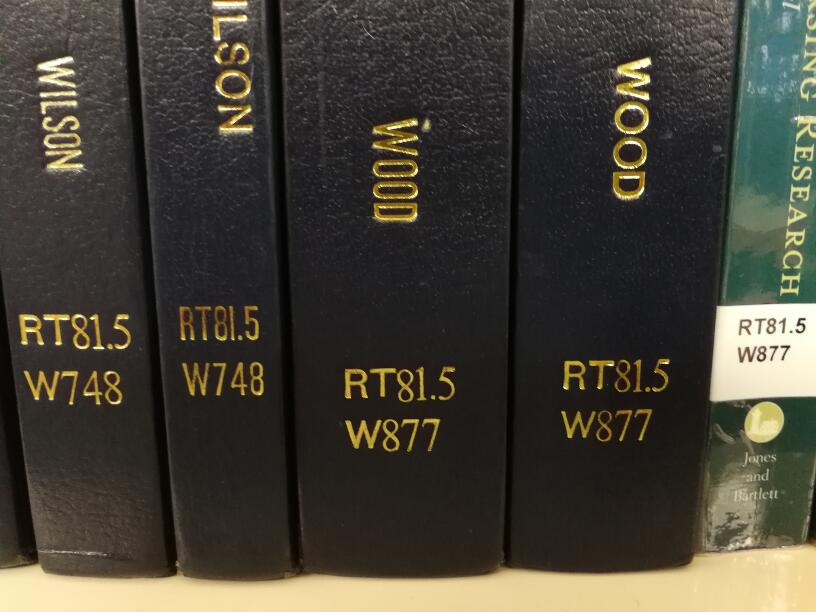booklabel: (14, 307, 137, 411), (336, 363, 460, 458), (557, 351, 674, 446), (173, 300, 271, 401), (734, 315, 808, 366)
